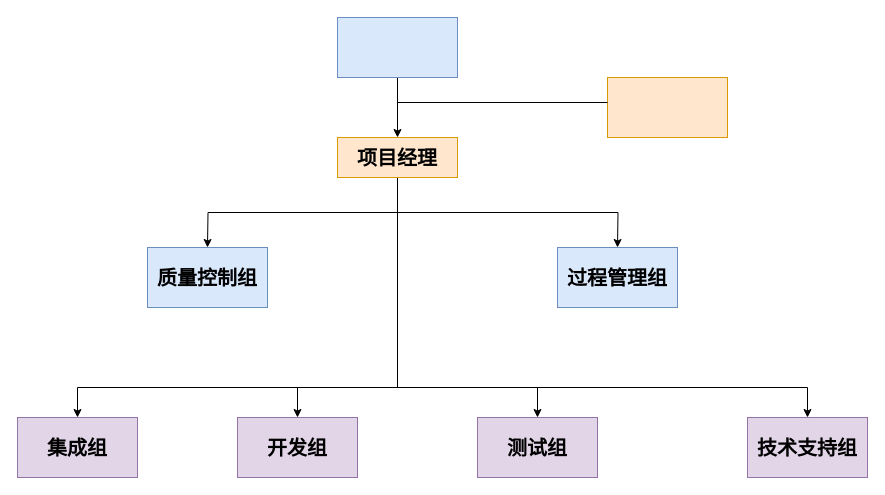
This 885x495 diagram has some shape labels left out. Here are the shapes that lost their labels. From the top down, the centre of each, then its label:
At [397,47]: "工程领导组".
At [667,107]: "项目评审组".
